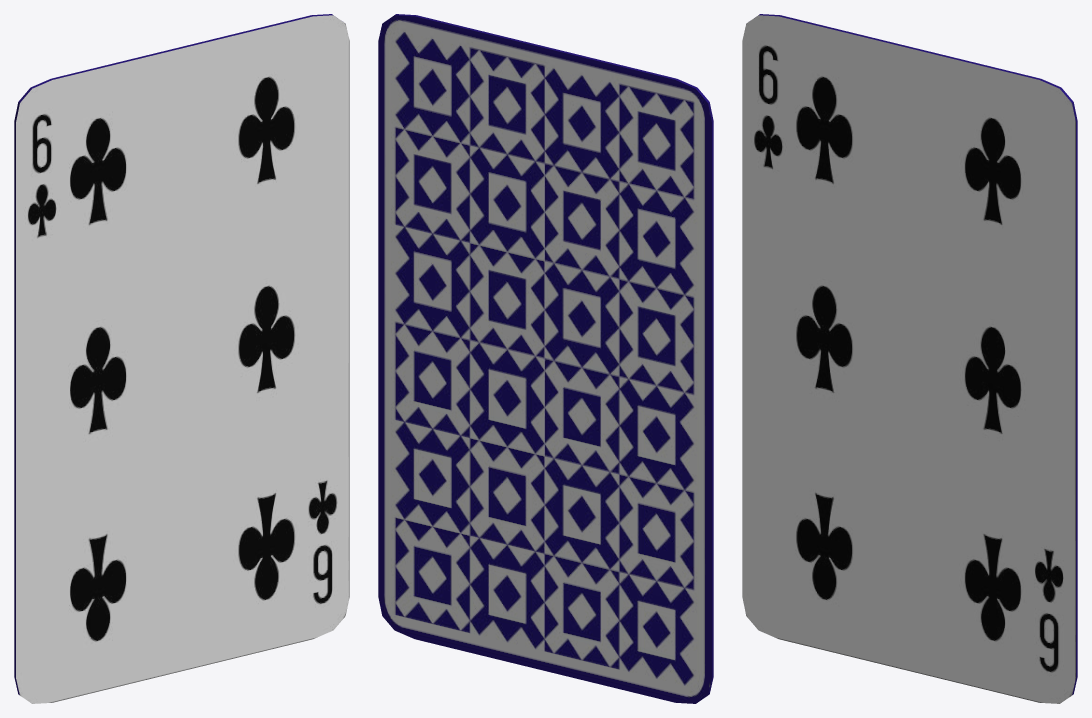
3 renders of one model, left to right at view 1: azimuth 30°, elevation 25°; view 2: azimuth 150°, elevation 25°; view 3: azimuth 330°, elevation 25°, orthographic.
Visible parts, largest first — view 1: Six of Clubs; view 2: Six of Clubs; view 3: Six of Clubs.
Part boxes in pixels (box(x1,y1,x2,y2)): Six of Clubs: box(14, 14, 349, 703); Six of Clubs: box(378, 14, 713, 703); Six of Clubs: box(742, 14, 1077, 703).
Bounding box in the file's own units: 1.43 × 2.54 × 0.0125.
3 materials, 3 textured.
